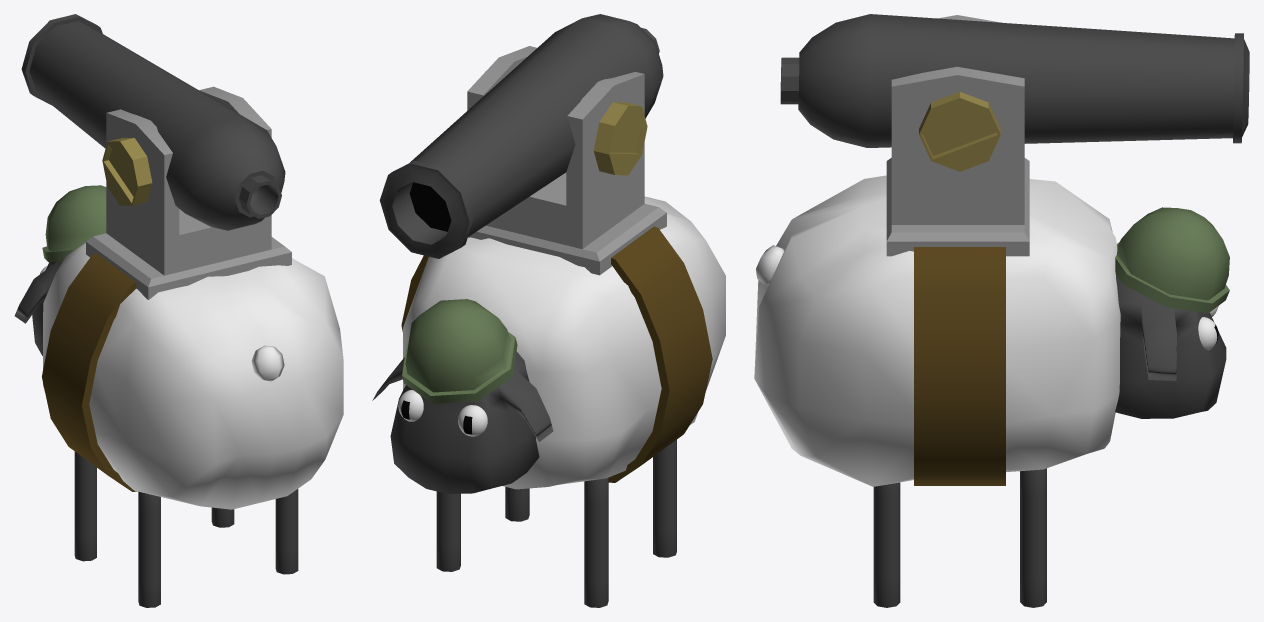
The model's file is sheep.fbx.
3 renders of one model, left to right at view 1: azimuth 30°, elevation 25°; view 2: azimuth 150°, elevation 25°; view 3: azimuth 270°, elevation 25°, orthographic. The views are drawn at different scales.
Visible parts, largest first — view 1: sheep_body2, cannon1, cannon_base, cannon_belt, legs1, helmet, legs, screw, sheep_head; view 2: sheep_body2, cannon1, cannon_base, sheep_head, cannon_belt, helmet, legs, legs1, screw, eyes; view 3: sheep_body2, cannon1, cannon_belt, cannon_base, sheep_head, helmet, screw, legs, legs1.
Boxes of the visible parts, x1,y1,x2,y2 form: sheep_body2: [43, 243, 343, 509]; cannon1: [21, 14, 285, 230]; cannon_base: [86, 86, 291, 299]; cannon_belt: [42, 253, 137, 491]; legs1: [138, 489, 298, 607]; helmet: [42, 185, 106, 262]; legs: [74, 451, 234, 561]; screw: [102, 137, 152, 205]; sheep_head: [14, 261, 62, 355]; sheep_body2: [403, 196, 725, 489]; cannon1: [379, 14, 663, 258]; cannon_base: [467, 46, 666, 275]; sheep_head: [372, 351, 553, 493]; cannon_belt: [401, 226, 712, 482]; helmet: [402, 299, 517, 403]; legs: [436, 477, 608, 607]; legs1: [505, 440, 676, 557]; screw: [485, 71, 647, 175]; eyes: [398, 390, 487, 436]; sheep_body2: [754, 175, 1120, 486]; cannon1: [780, 14, 1249, 147]; cannon_belt: [914, 247, 1005, 485]; cannon_base: [886, 15, 1029, 256]; sheep_head: [1115, 275, 1226, 418]; helmet: [1115, 207, 1229, 313]; screw: [919, 92, 1000, 171]; legs: [1020, 468, 1046, 607]; legs1: [873, 482, 900, 607].
Bounding box in the file's own units: 104 × 187 × 155.
